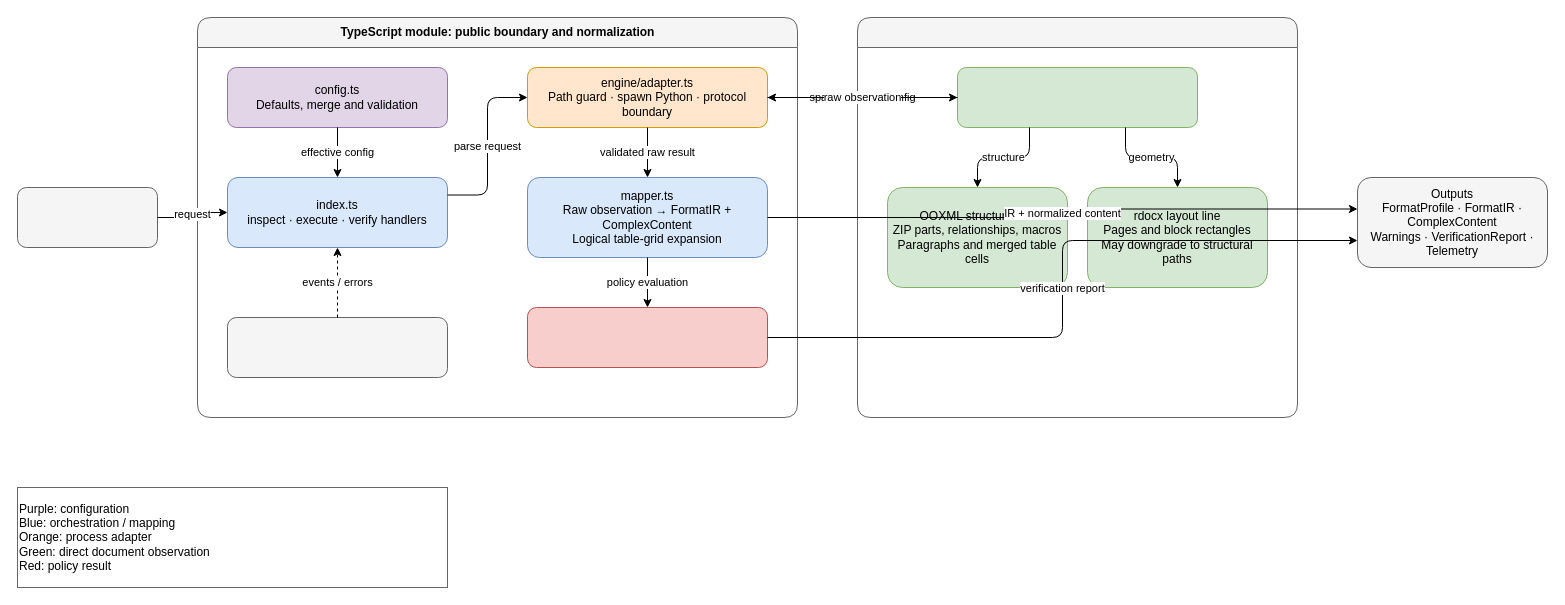
The diagram is 1565 pixels wide and 605 high, and some of its shapes have lost their labels. Each missing label, with the box of its shape:
ArtifactRef .docx / .docm path: (16, 186, 158, 248)
docx_complex_parse.py One JSON result / failure envelope: (956, 66, 1198, 128)
Python engine: document observation: (856, 16, 1298, 418)
telemetry.ts + errors.ts Observability and stable error classification: (226, 316, 448, 378)
verifier.ts Safety policy → pass / fail / skip: (526, 306, 768, 368)
